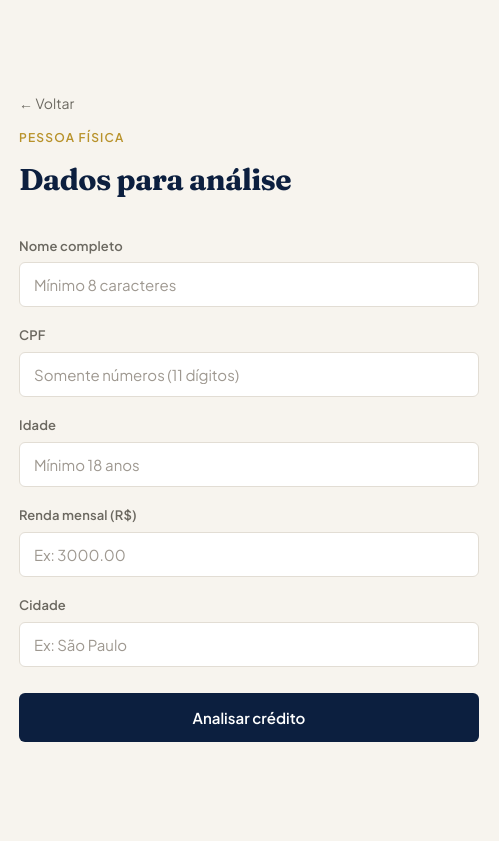
Test: PersonForm › shows required errors when submitting empty form
The image size is (499, 841).
Click the button "Analisar crédito". click: (249, 717)
box: [19,693,479,742]
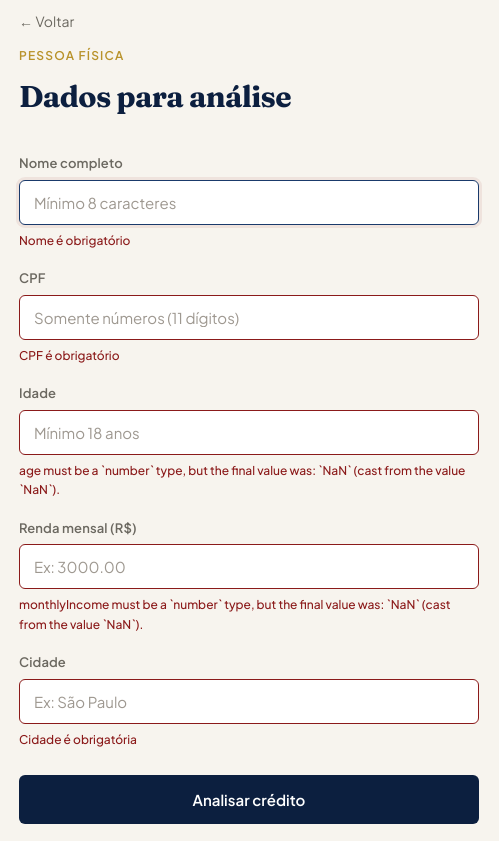
Check: the text "Nome é obrigatório" is shown, box [19,233,130,248]
